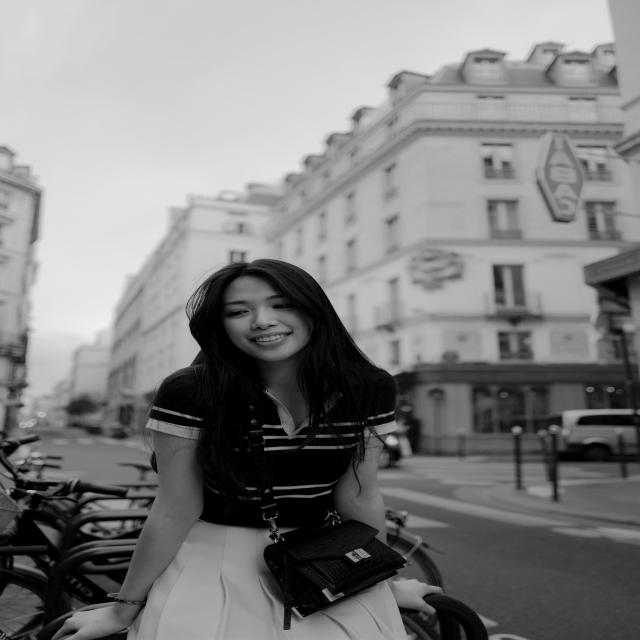adult: (58, 257, 448, 640)
